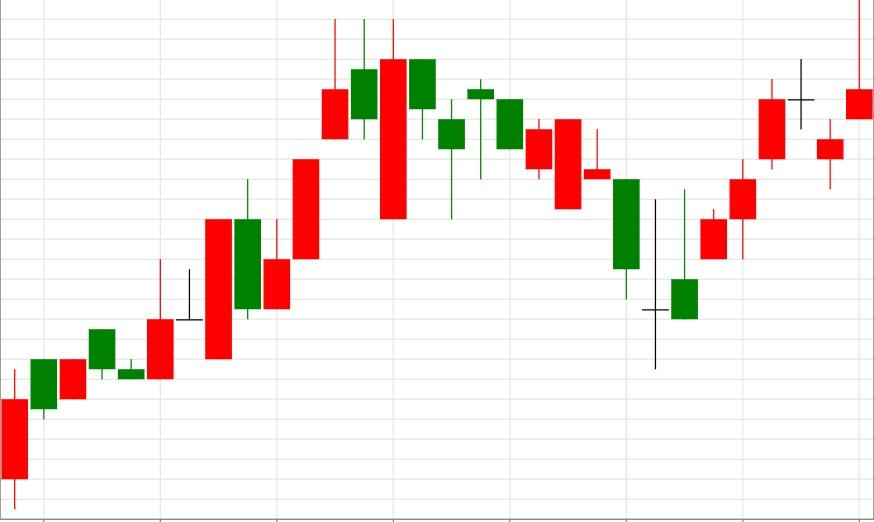inverse_hammer_rise: (466, 78, 699, 370)
